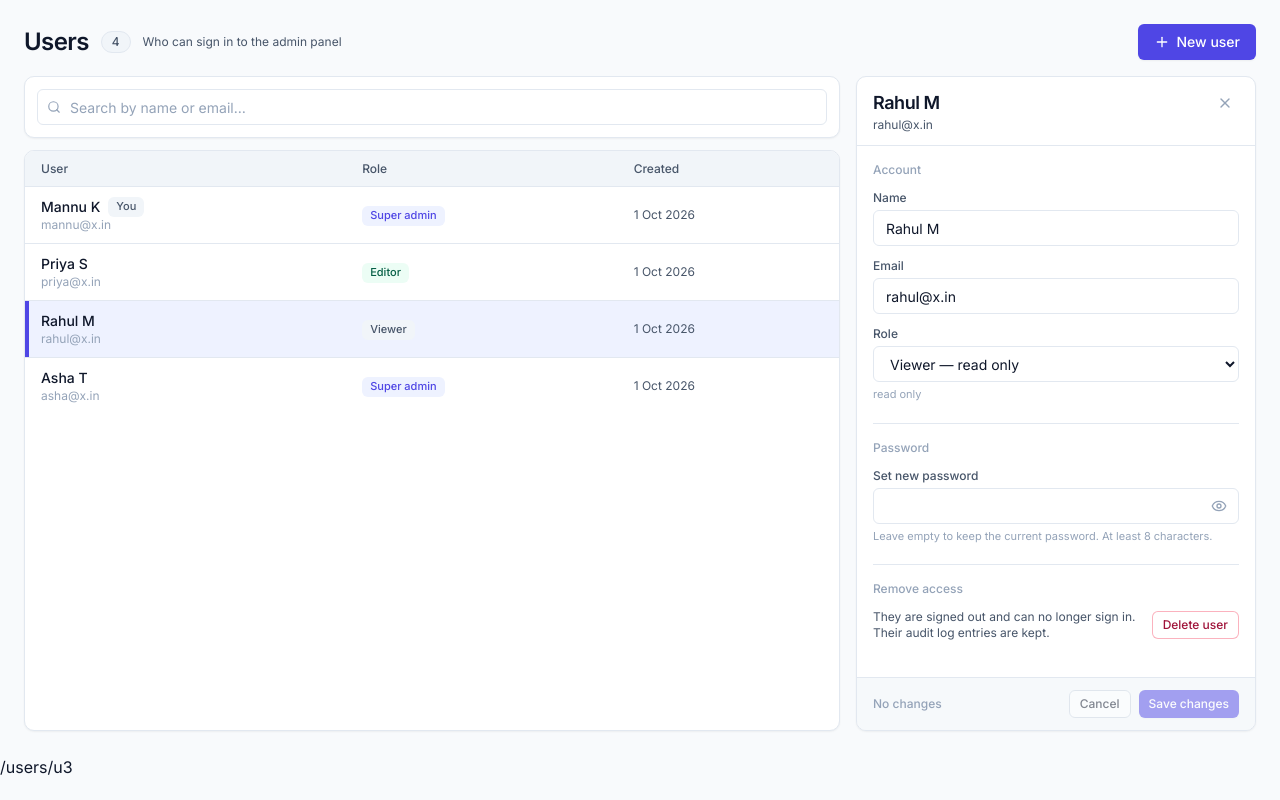
Scenario: Users page › deleting asks once in a dialog (never window.confirm) and removes the user
The image size is (1280, 800).
Click the button "Delete user" at (1195, 625), box [1152,611,1239,639]
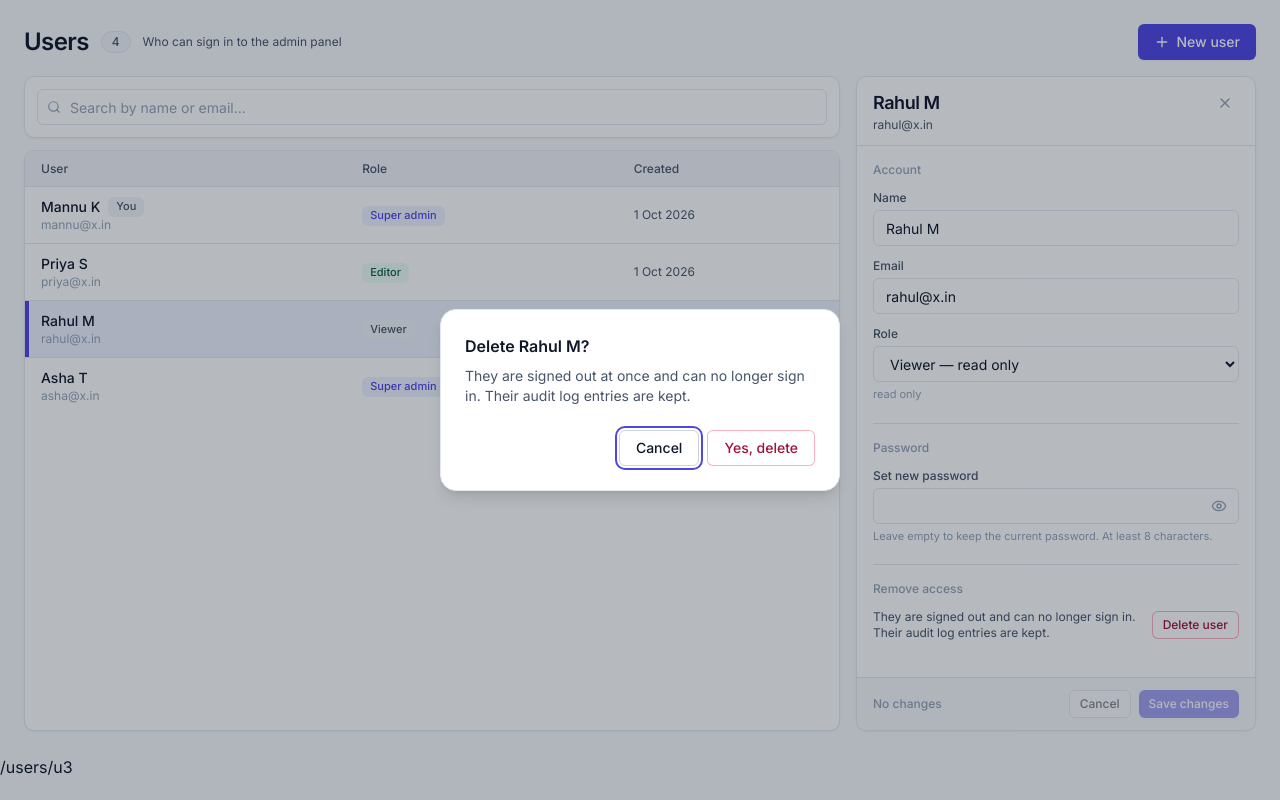
Click the button "Yes, delete" at (761, 448), box [707,430,815,466]
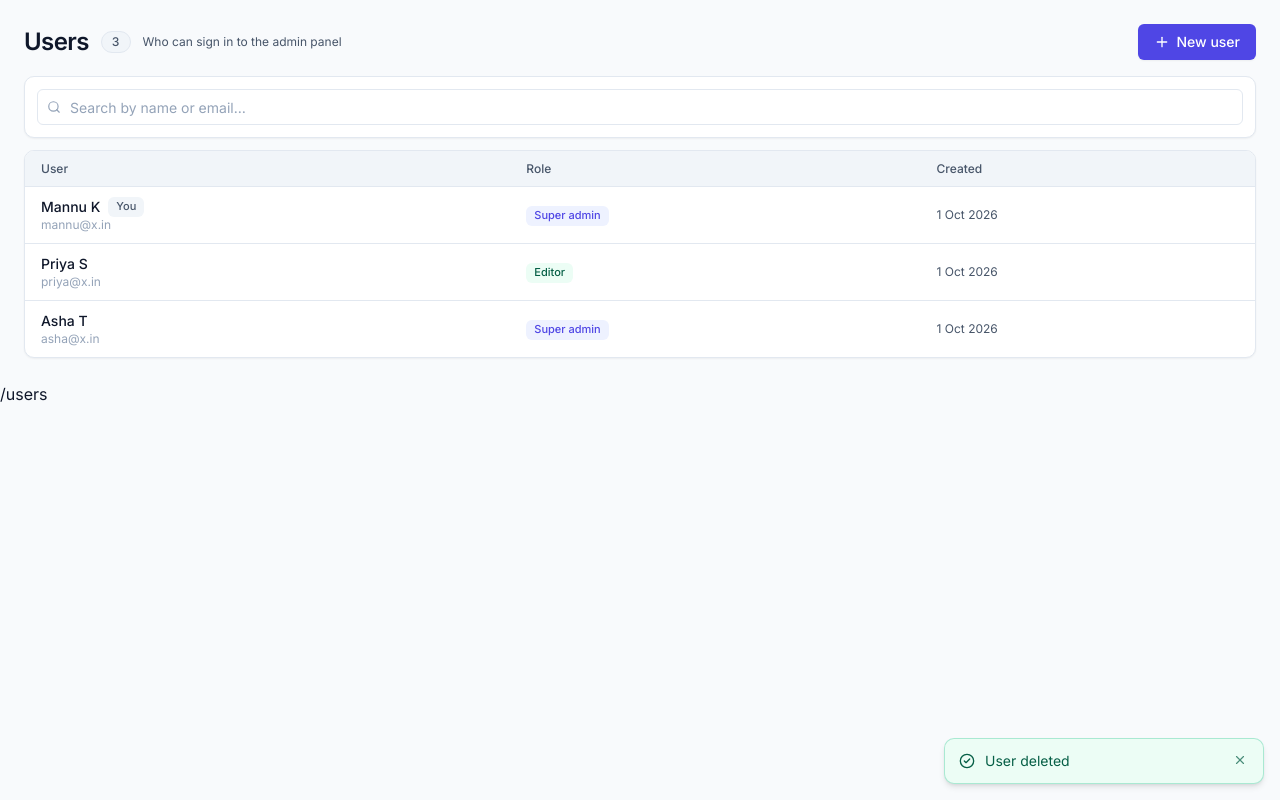
Now the text with test id "where" reads "/users", box [0,384,48,404]
Now the text "Rahul M" is gone
Now the text "User deleted" is shown, box [985,752,1070,769]
